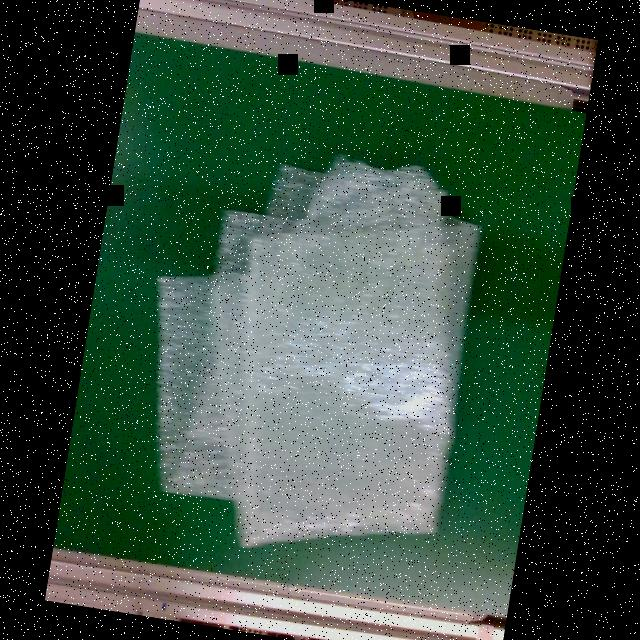scrap_plastic: (116, 126, 494, 578)
